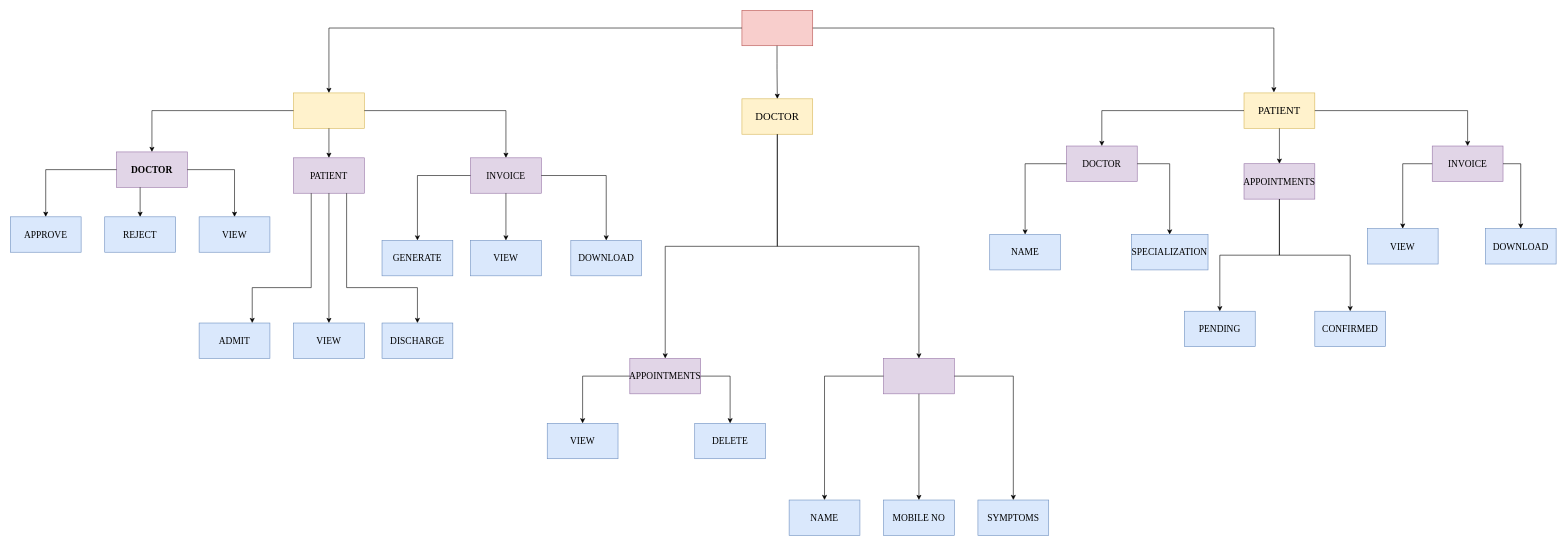
The diagram is 1566 pixels wide and 546 high, and some of its shapes have lost their labels. Each missing label, with the centre of its shape:
"ADMIN" belongs at point 328,110.
"HMS" belongs at point 777,28.
"PATIENTS" belongs at point 918,376.
